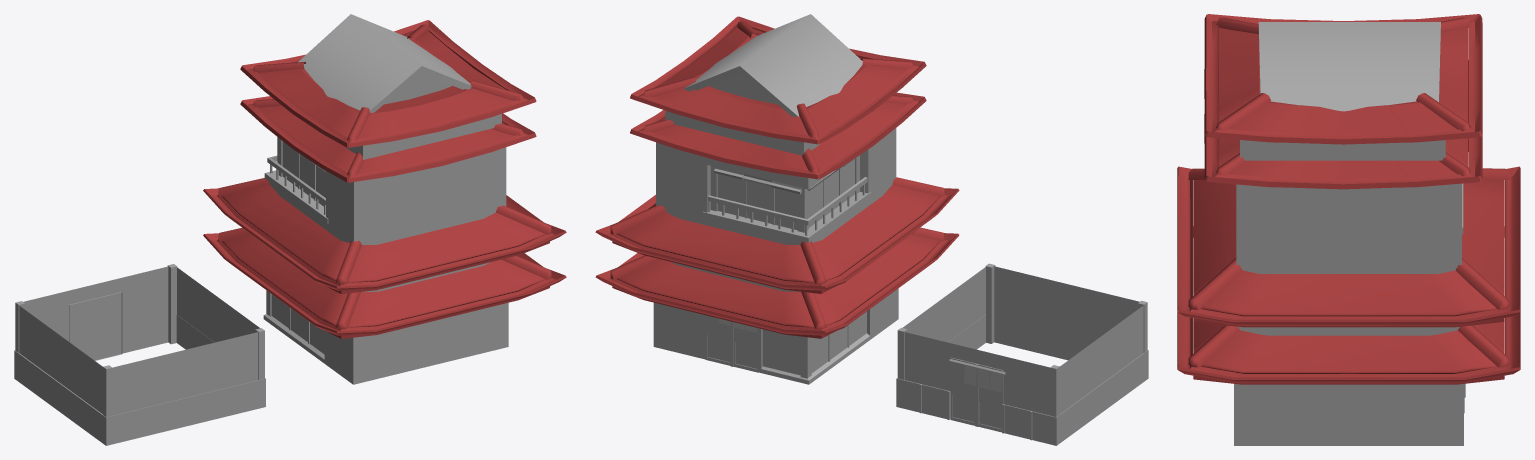
The model's file is Japanese houses.fbx.
The picture shows the model from 3 angles, left to right: view 1: azimuth 30°, elevation 25°; view 2: azimuth 150°, elevation 25°; view 3: azimuth 270°, elevation 25°; orthographic projection. The views are drawn at different scales.
Parts seen in each view (by area): view 1: polySurface118, pPipe15, polySurface139, pPipe13, pPipe12, polySurface100, polySurface21, pPipe14, pCube30; view 2: polySurface118, pPipe15, polySurface139, pPipe13, pPipe12, polySurface100, polySurface21, pPipe14, pCube30; view 3: pPipe15, pPipe12, polySurface139, pPipe13, polySurface21, polySurface100, pPipe14, pCube30, pCube19.
Part boxes in pixels (bbox=[...]): polySurface118: bbox=[14, 264, 265, 445]; pPipe15: bbox=[203, 178, 566, 293]; polySurface139: bbox=[264, 137, 506, 244]; pPipe13: bbox=[203, 228, 566, 338]; pPipe12: bbox=[240, 20, 536, 147]; polySurface100: bbox=[263, 290, 508, 384]; polySurface21: bbox=[298, 14, 471, 112]; pPipe14: bbox=[240, 96, 536, 182]; pCube30: bbox=[345, 114, 501, 159]; polySurface118: bbox=[896, 263, 1148, 445]; pPipe15: bbox=[595, 177, 959, 293]; polySurface139: bbox=[656, 128, 896, 244]; pPipe13: bbox=[595, 227, 959, 338]; pPipe12: bbox=[630, 16, 926, 144]; polySurface100: bbox=[653, 288, 898, 384]; polySurface21: bbox=[683, 14, 862, 116]; pPipe14: bbox=[630, 92, 926, 179]; pCube30: bbox=[665, 110, 821, 155]; pPipe15: bbox=[1177, 166, 1520, 327]; pPipe12: bbox=[1204, 14, 1482, 144]; polySurface139: bbox=[1236, 183, 1463, 273]; pPipe13: bbox=[1177, 226, 1520, 384]; polySurface21: bbox=[1258, 22, 1440, 111]; polySurface100: bbox=[1234, 383, 1465, 445]; pPipe14: bbox=[1204, 60, 1482, 189]; pCube30: bbox=[1240, 140, 1445, 160]; pCube19: bbox=[1238, 326, 1459, 335].
Bounding box in the file's own units: 1096 × 697 × 577.
